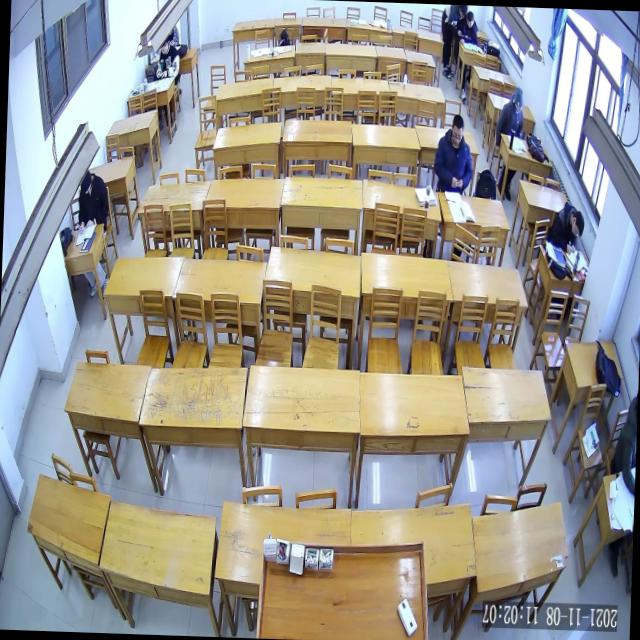down: (568, 208, 586, 240), (449, 112, 465, 146), (512, 86, 526, 116), (80, 168, 92, 196), (158, 36, 170, 56), (464, 10, 474, 30)
sit: (431, 111, 476, 195), (76, 166, 110, 235), (546, 198, 585, 256), (438, 4, 467, 82), (495, 85, 525, 136), (155, 36, 181, 80), (455, 9, 478, 46)
